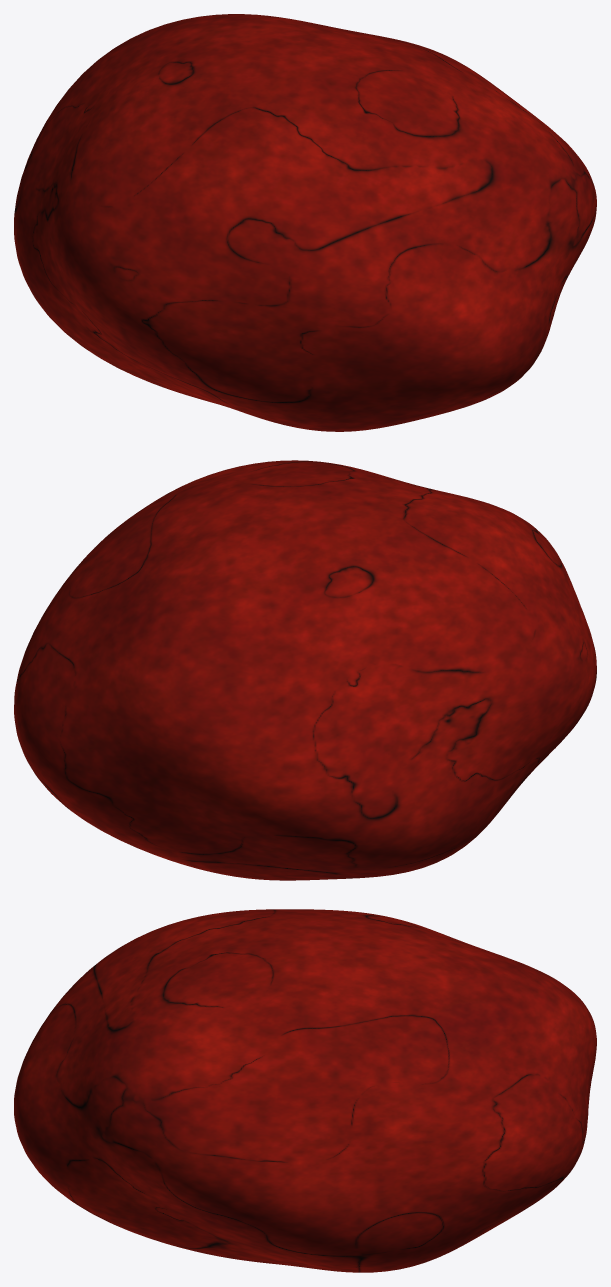
The model's file is red-jasper.glb.
The picture shows the model from 3 angles, top to bottom: view 1: azimuth 30°, elevation 25°; view 2: azimuth 150°, elevation 25°; view 3: azimuth 270°, elevation 25°; orthographic projection. The views are drawn at different scales.
Visible parts, largest first — view 1: red-jasper.001; view 2: red-jasper.001; view 3: red-jasper.001.
Boxes of the visible parts, x1,y1,x2,y2 form: red-jasper.001: [14, 14, 596, 431]; red-jasper.001: [14, 460, 596, 880]; red-jasper.001: [14, 909, 596, 1272].
Size of the model in its own units: 2.18 by 1.39 by 2.5.
Materials: 1 (1 with a texture image).
